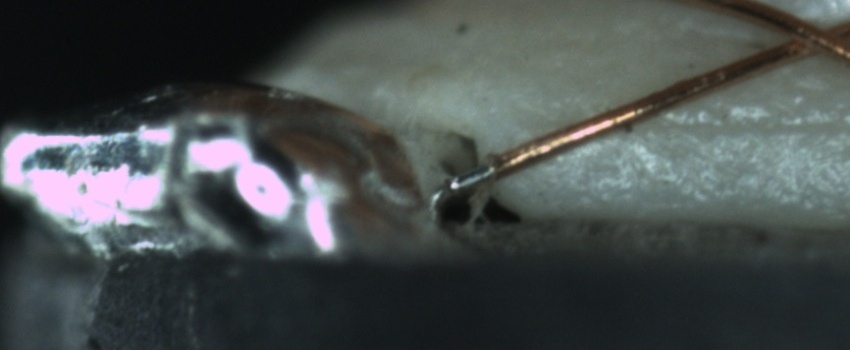CL: (763, 8, 847, 65)
DL: (557, 94, 850, 157)
TS: (439, 162, 497, 195)
